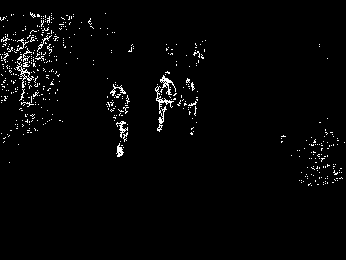person: (107, 82, 131, 157), (154, 70, 175, 132), (178, 76, 200, 135)
